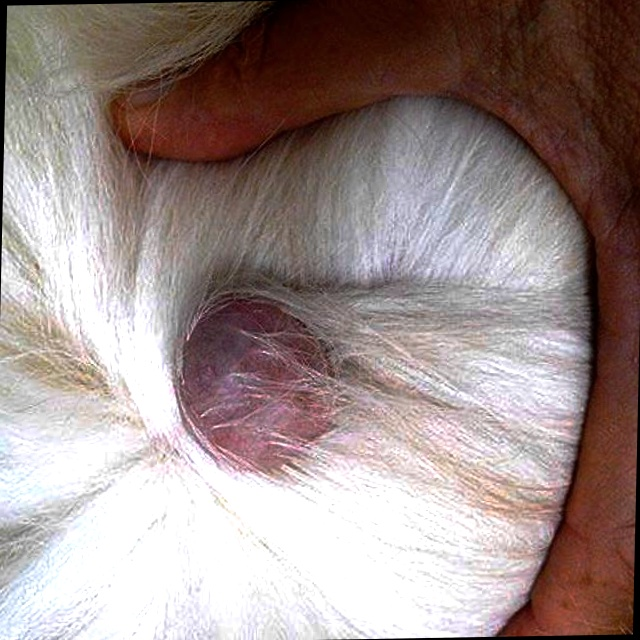lump_and_bump: (182, 282, 328, 482)
